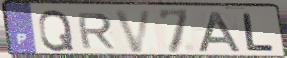7: (157, 8, 192, 56)
A: (196, 10, 245, 54)
L: (240, 12, 276, 53)
Q: (36, 8, 76, 53)
R: (75, 12, 117, 50)
V: (112, 8, 155, 54)
